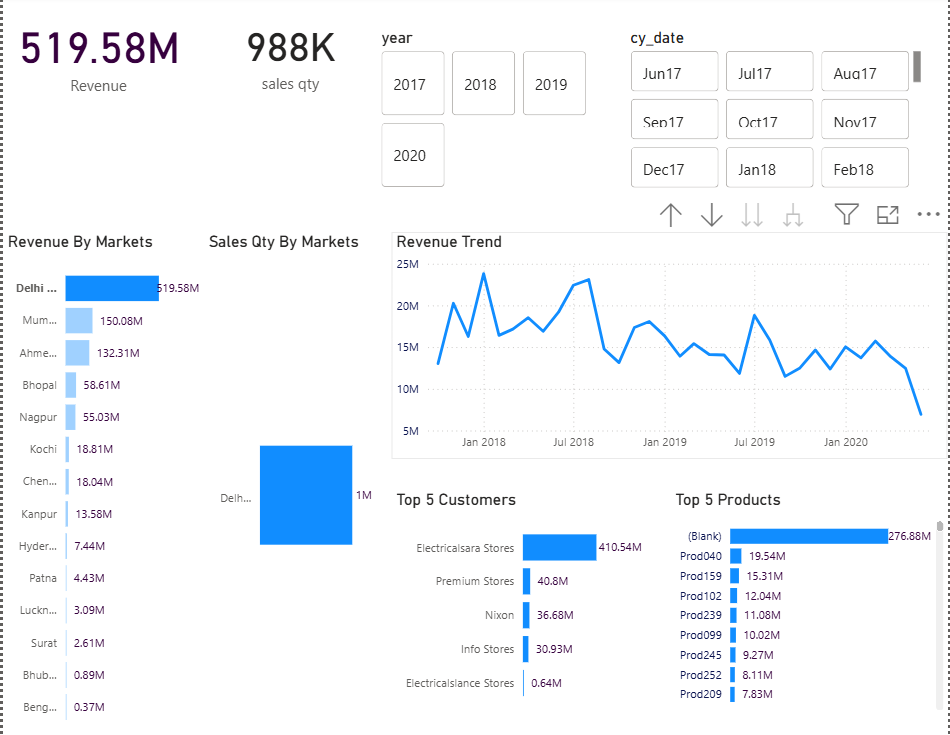

The dashboard page shown, as its layout file describes it:
{"tool":"powerbi","page":{"name":"Page 1","canvas":[1003,787],"ordinal":0},"visuals":[{"type":"card","fields":{"Values":["Base Measures.Revenue"]},"box":[0,0,202.1,122.5],"z":0},{"type":"card","fields":{"Values":["Base Measures.sales qty"]},"box":[213.2,0,183,122.5],"z":1000},{"type":"barChart","title":"Revenue By Markets","fields":{"Y":["Base Measures.Revenue"],"Category":["sales markets.markets_name"]},"box":[0,251.4,213.2,536.2],"z":2000},{"type":"barChart","title":"Sales Qty By Markets","fields":{"Y":["Base Measures.sales qty"],"Category":["sales markets.markets_name"]},"box":[213.2,251.4,183,536.2],"z":3000},{"type":"advancedSlicerVisual","fields":{"Values":["sales date.year"]},"box":[396.2,35,227.5,175],"z":4000},{"type":"advancedSlicerVisual","fields":{"Values":["sales date.cy_date"]},"box":[660.3,35,318.2,175],"z":5000},{"type":"barChart","title":"Top 5 Customers","fields":{"Y":["Base Measures.Revenue"],"Category":["sales customers.custmer_name"]},"box":[412.1,525,270.5,238.7],"z":5001},{"type":"barChart","title":"Top 5 Products","fields":{"Y":["Base Measures.Revenue"],"Category":["sales products.product_code"]},"box":[708,525,294.3,238.7],"z":5002},{"type":"lineChart","title":"Revenue Trend","fields":{"Y":["Base Measures.Revenue"],"Category":["sales date.cy_date.Variation.Date Hierarchy.Year","sales date.cy_date.Variation.Date Hierarchy.Quarter","sales date.cy_date.Variation.Date Hierarchy.Month","sales date.cy_date.Variation.Date Hierarchy.Day"]},"box":[412.1,251.4,590.3,240.2],"z":5003}]}

Visuals, with their boxes in screenshot pixels (x1, y1, x2, y2), scaled from the page's 1003x787 canvas onto the 950x735 screenshot:
card - Base Measures.Revenue: (0, 0, 191, 114)
card - Base Measures.sales qty: (202, 0, 375, 114)
"Revenue By Markets" barChart: (0, 235, 202, 734)
"Sales Qty By Markets" barChart: (202, 235, 375, 734)
advancedSlicerVisual - sales date.year: (375, 33, 591, 196)
advancedSlicerVisual - sales date.cy_date: (625, 33, 927, 196)
"Top 5 Customers" barChart: (390, 490, 647, 713)
"Top 5 Products" barChart: (671, 490, 949, 713)
"Revenue Trend" lineChart: (390, 235, 949, 459)
